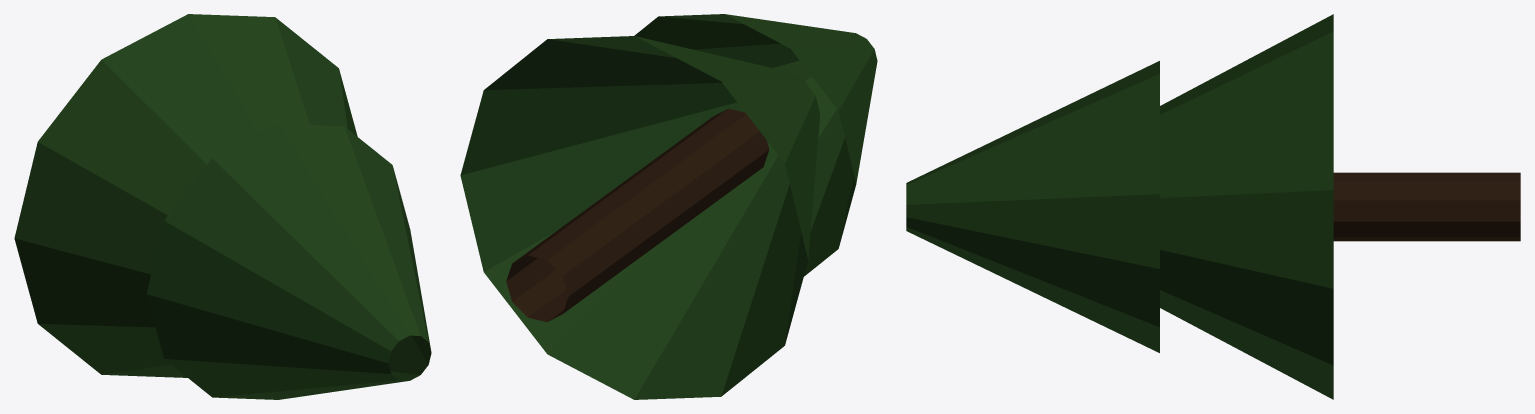
File: SM_CommonPineTree.obj
3 renders of one model, left to right at view 1: azimuth 30°, elevation 25°; view 2: azimuth 150°, elevation 25°; view 3: azimuth 270°, elevation 25°, orthographic. The views are drawn at different scales.
Parts seen in each view (by area): view 1: SM_CommonPineTree; view 2: SM_CommonPineTree; view 3: SM_CommonPineTree.
Boxes of the visible parts, x1,y1,x2,y2 form: SM_CommonPineTree: [14, 14, 431, 399]; SM_CommonPineTree: [460, 14, 877, 399]; SM_CommonPineTree: [906, 14, 1520, 399].
Size of the model in its own units: 290 by 290 by 460.
